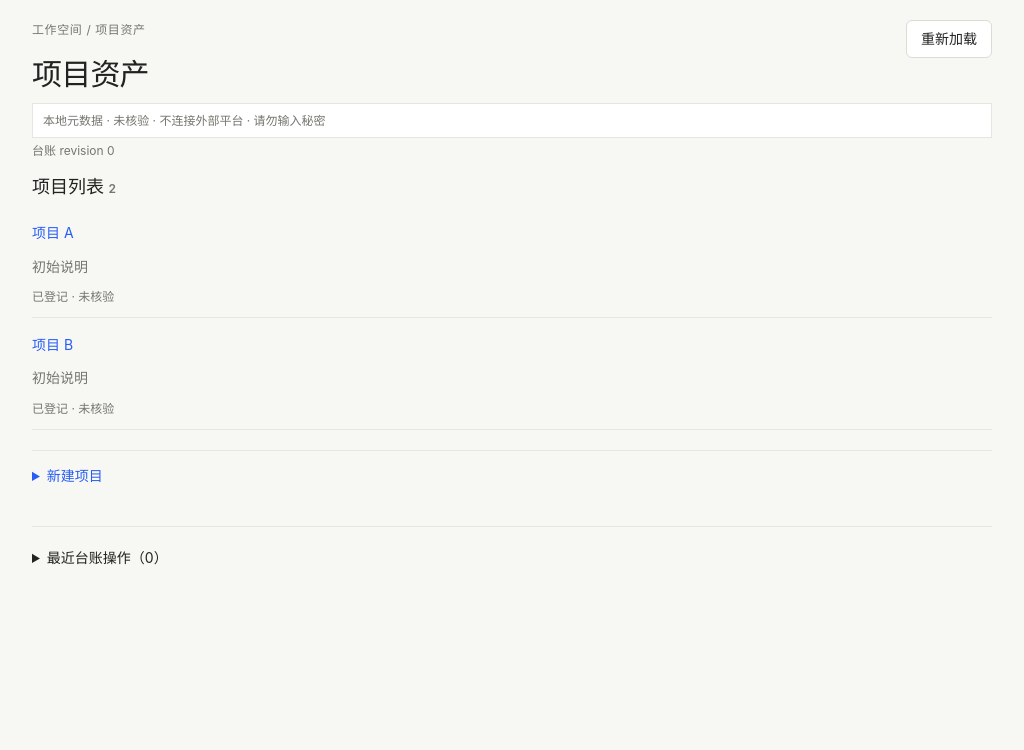
Test: normalizes target matrix changes and registers ipa metadata
The image size is (1024, 750).
Step 1. Click the button "项目 A" → (53, 233), box [32,217,74,249]
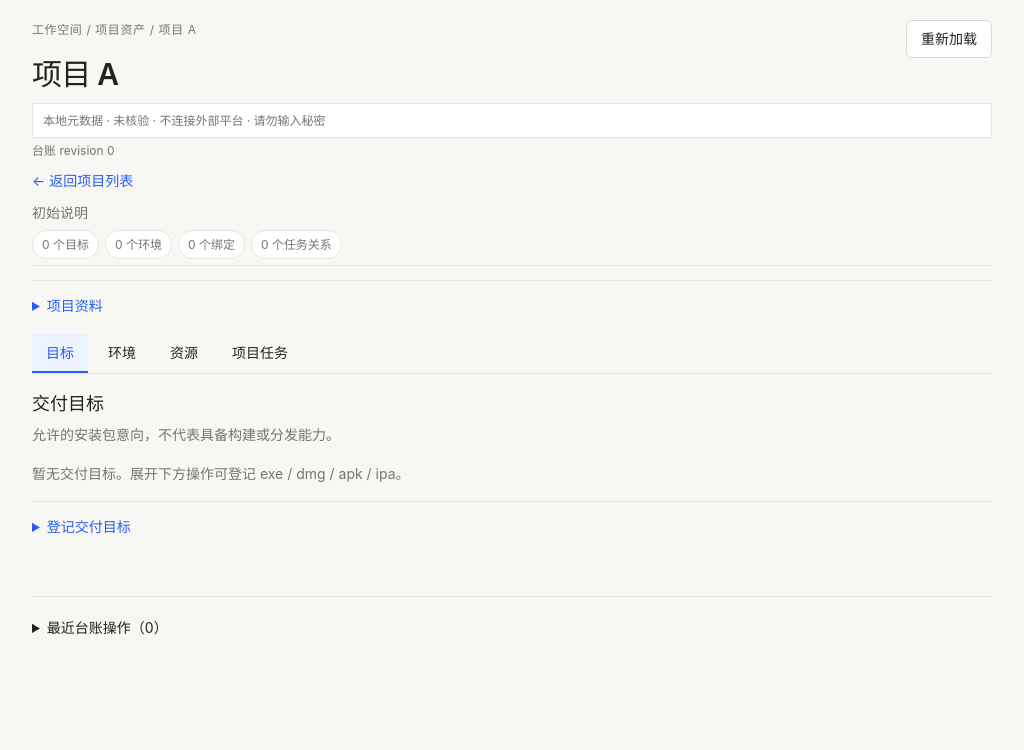
Step 2. Click the heading "登记交付目标" → (89, 526), box [47,518,131,535]
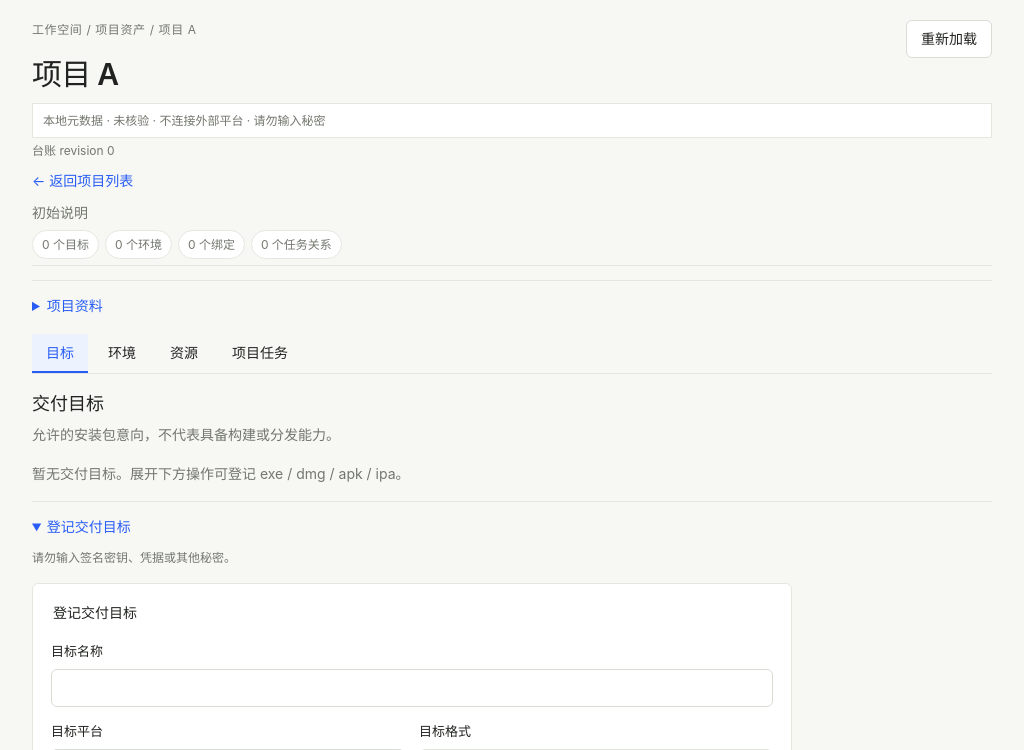
Step 3. Type "iOS 内测" into the field labelled "目标名称" → (412, 688), box [51,669,773,708]
(page scrolled)
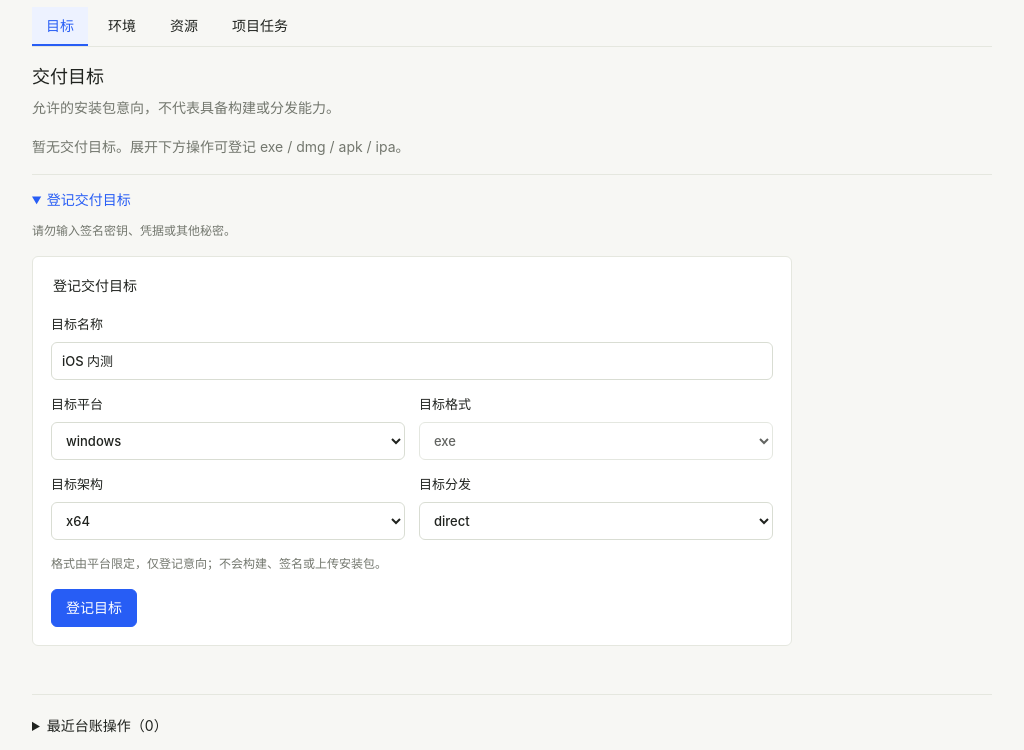
Step 4. Select "macos" in the dropdown labelled "目标平台" → (228, 441), box [51,422,405,460]
Step 5. Select "universal" in the dropdown labelled "目标架构" → (228, 521), box [51,502,405,540]
Step 6. Select "ios" in the dropdown labelled "目标平台" → (228, 441), box [51,422,405,460]
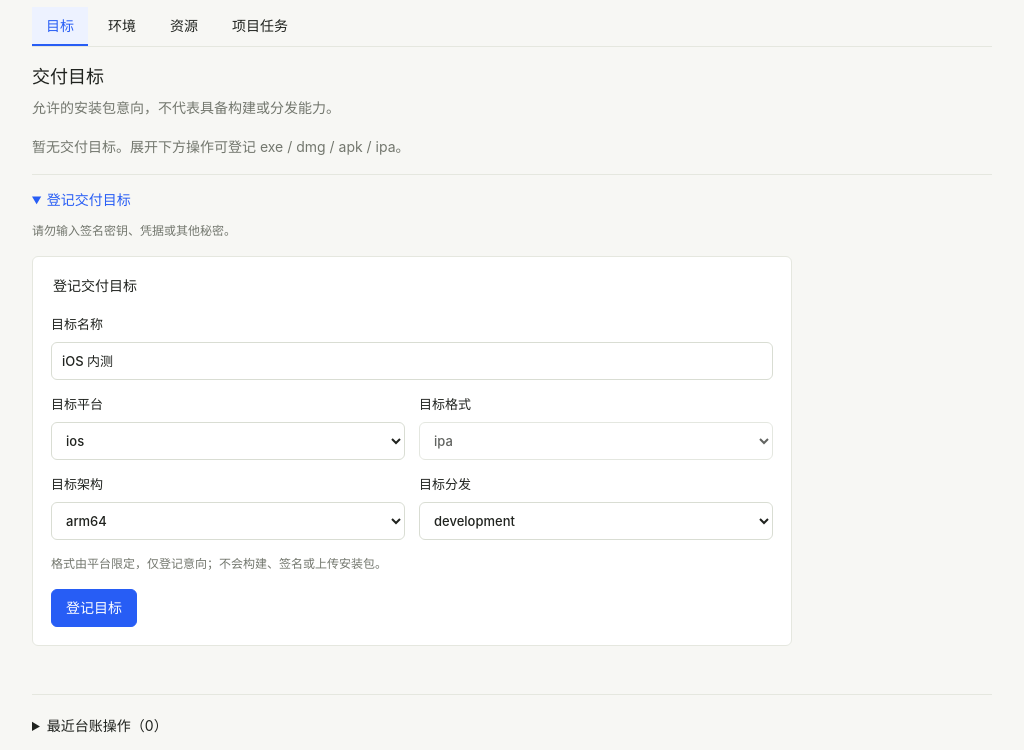
Now the dropdown labelled "目标格式" shows "ipa", box [419,422,773,460]
Step 7. Select "testflight" in the dropdown labelled "目标分发" → (596, 521), box [419,502,773,540]
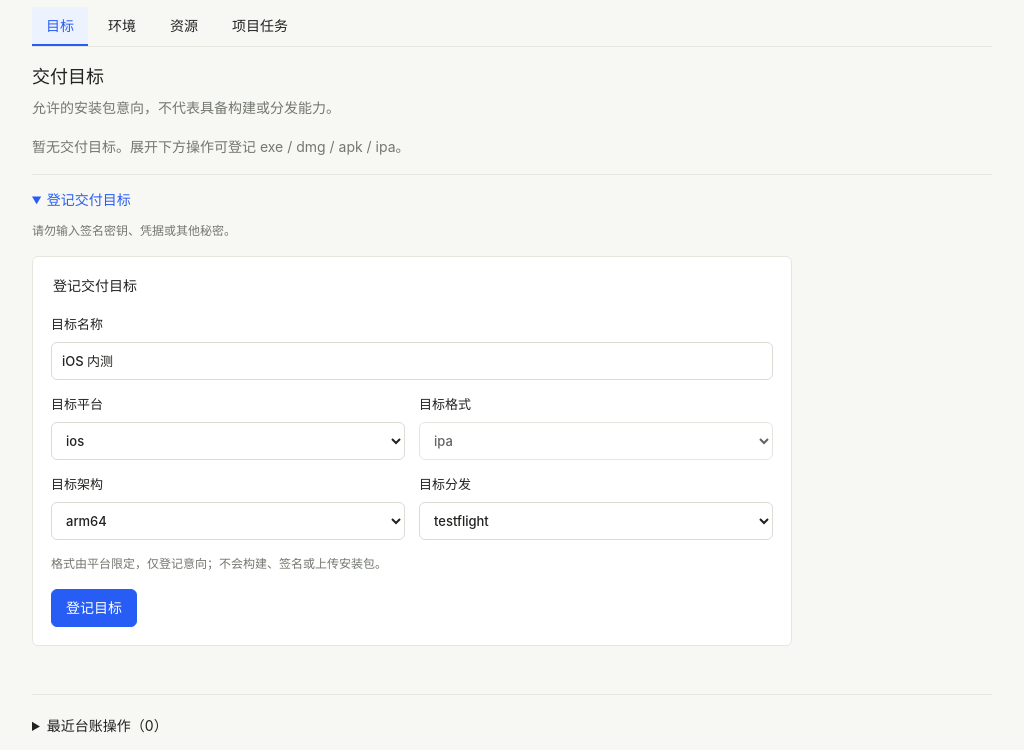
Step 8. Click the button "登记目标" → (94, 608), box [51,589,137,627]
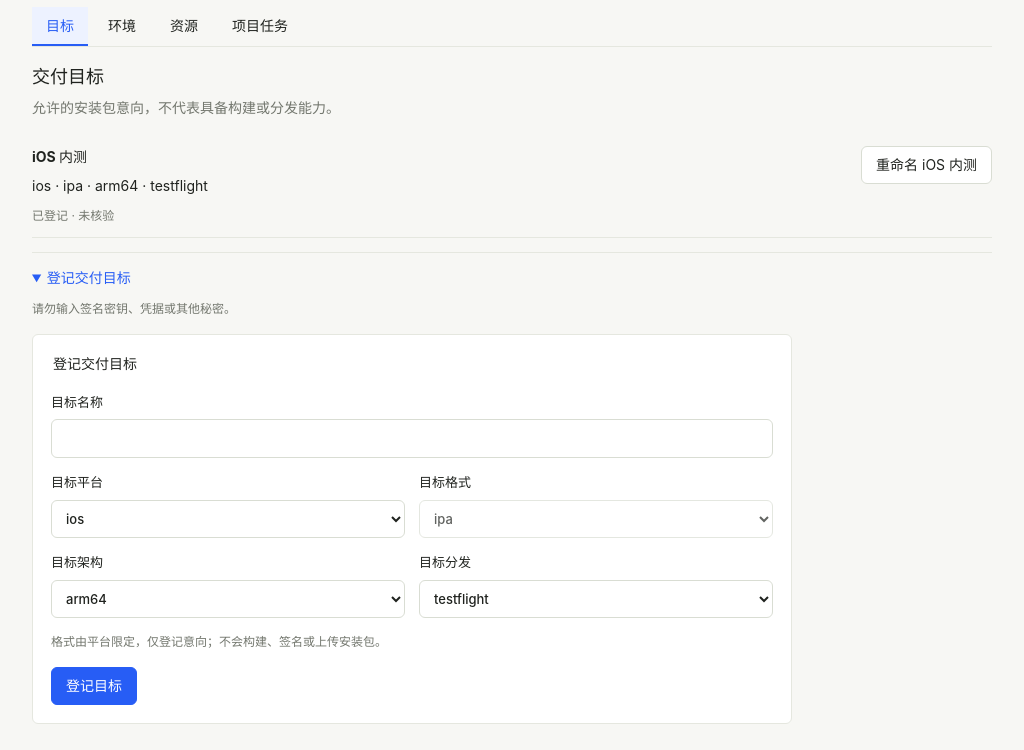
Now the text "iOS 内测" is shown, box [32,148,87,164]
